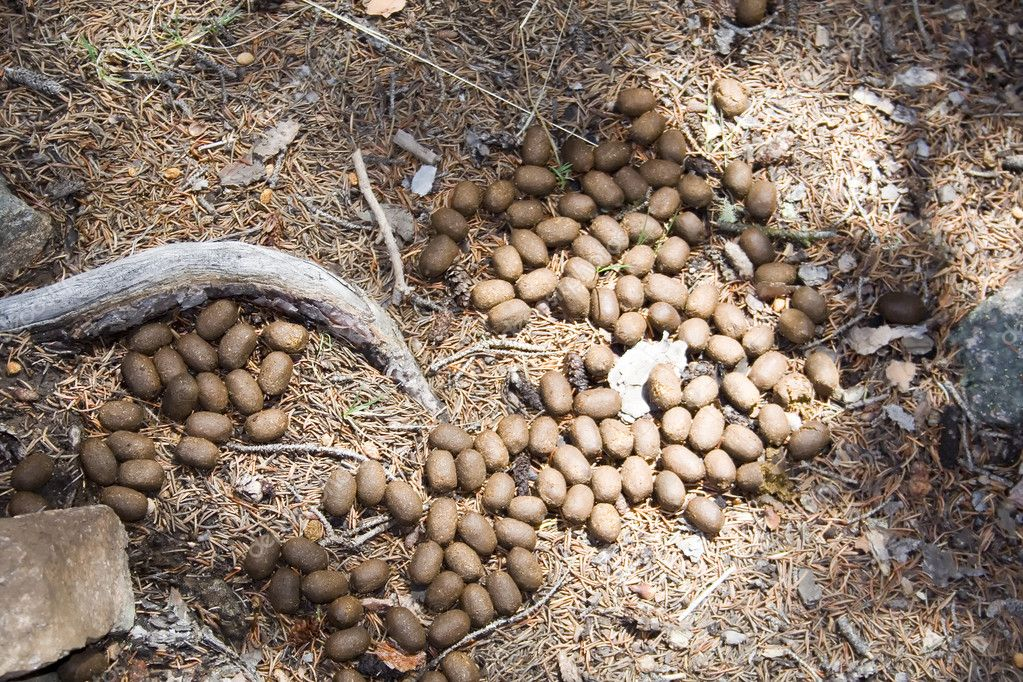Elk: (435, 115, 809, 358), (514, 368, 810, 503), (39, 332, 308, 480), (288, 474, 492, 599)
